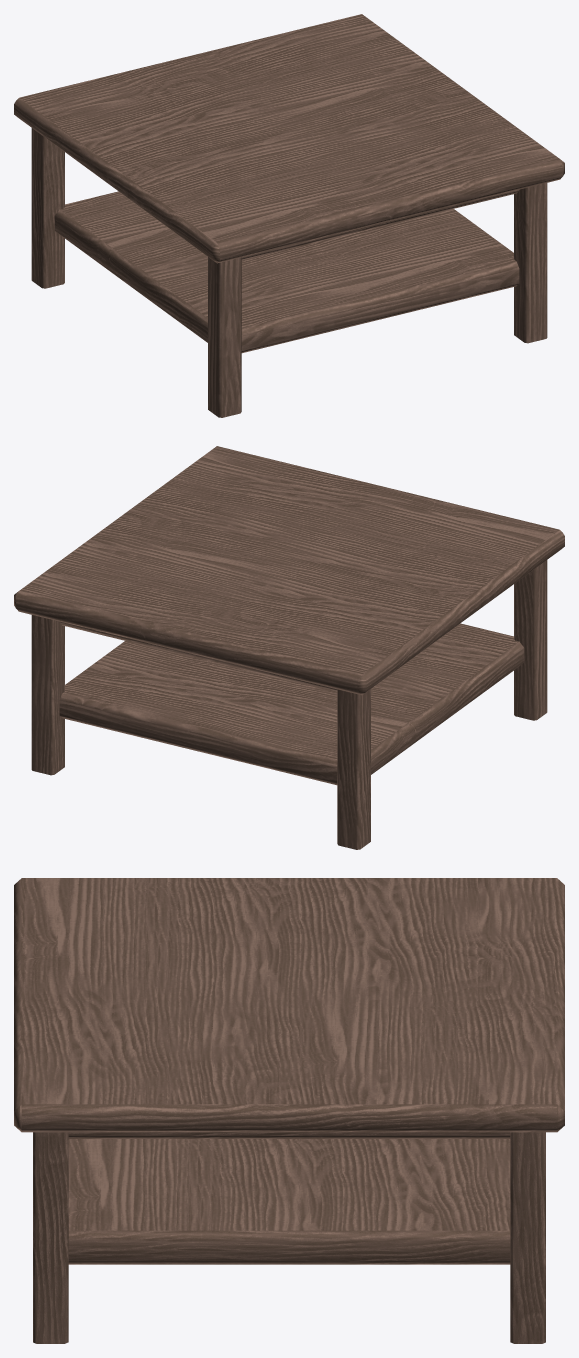
The model's file is coffee_table_001.fbx.
The picture shows the model from 3 angles, top to bottom: view 1: azimuth 30°, elevation 25°; view 2: azimuth 150°, elevation 25°; view 3: azimuth 270°, elevation 25°; orthographic projection. The views are drawn at different scales.
Visible parts, largest first — view 1: coffee_table_001; view 2: coffee_table_001; view 3: coffee_table_001.
Part boxes in pixels (x1,y1,x2,y2): coffee_table_001: (14, 14, 564, 417); coffee_table_001: (14, 446, 564, 849); coffee_table_001: (14, 878, 564, 1343).
Size of the model in its own units: 124 by 124 by 60.44.
